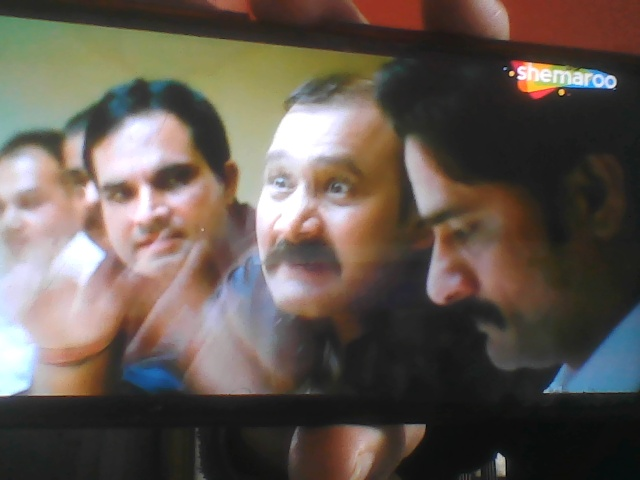fake: (403, 67, 614, 366), (238, 58, 427, 326), (87, 81, 235, 291)
